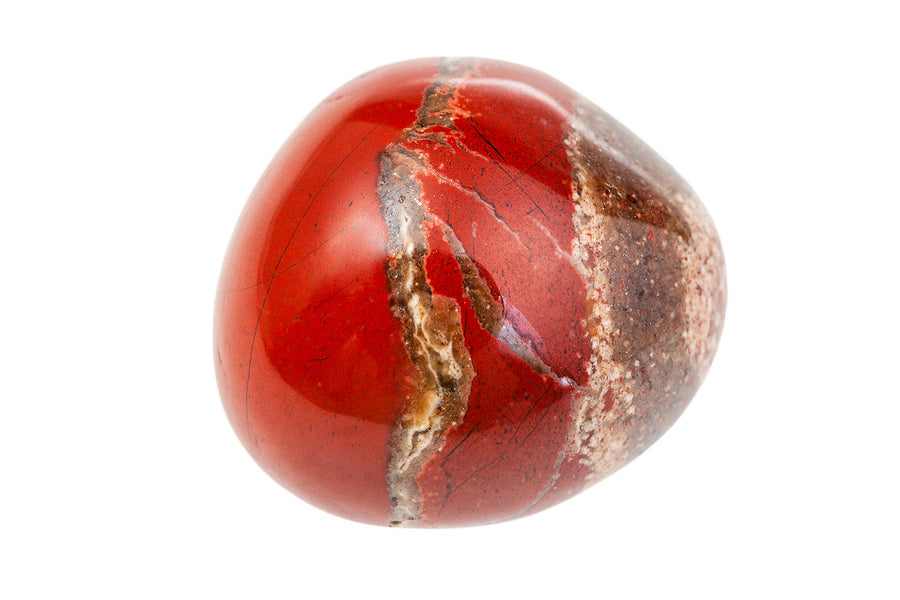Red_Jasper: (212, 38, 730, 527)
